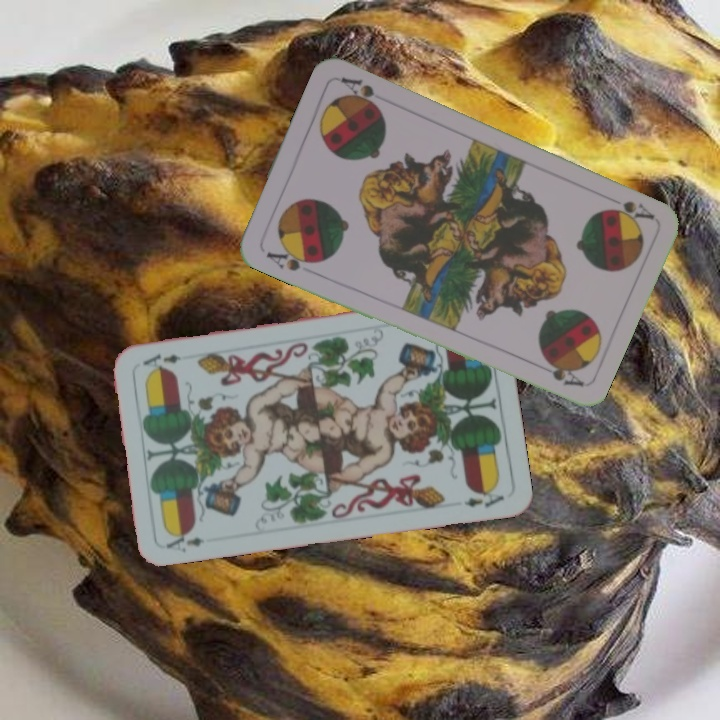EA: (162, 526, 207, 555)
SA: (262, 242, 319, 274), (600, 196, 657, 228)
